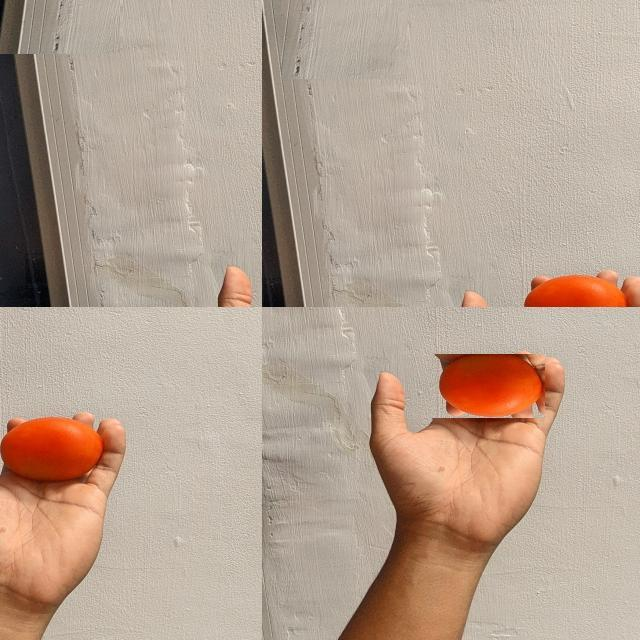Fresh Tomato: (430, 354, 545, 420), (0, 0, 122, 54)
Rotten Tomato: (280, 0, 408, 79)
